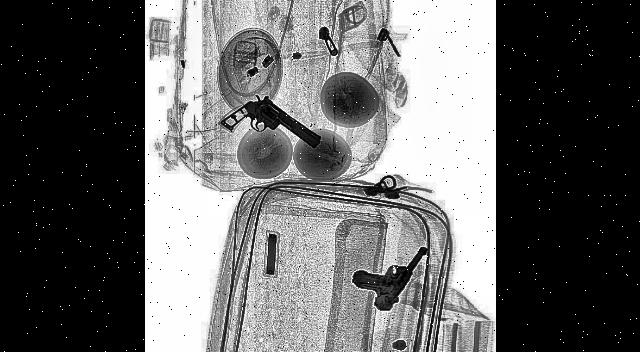Gun: (220, 70, 320, 191), (350, 194, 428, 338)
